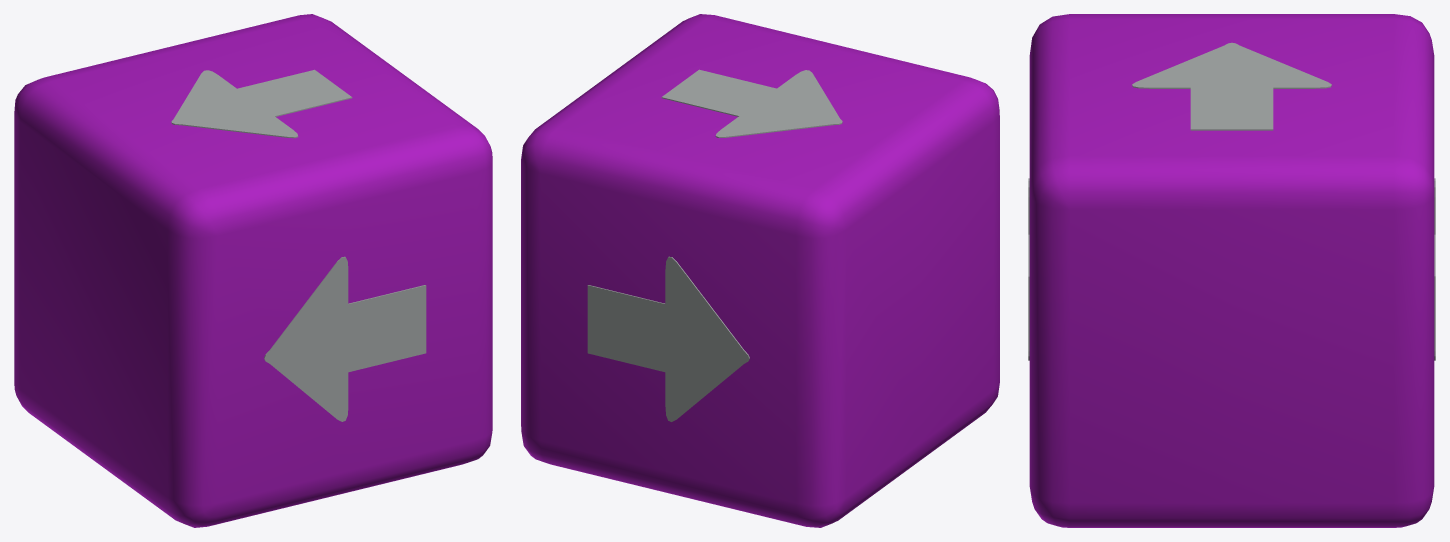
The picture shows the model from 3 angles, left to right: view 1: azimuth 30°, elevation 25°; view 2: azimuth 150°, elevation 25°; view 3: azimuth 270°, elevation 25°; orthographic projection. The views are drawn at different scales.
Parts seen in each view (by area): view 1: FK-06-1, FK-06-2; view 2: FK-06-1, FK-06-2; view 3: FK-06-1, FK-06-2.
Part boxes in pixels (left/top/right/bottom): FK-06-1: left=14, top=14, right=492, bottom=527; FK-06-2: left=171, top=69, right=426, bottom=421; FK-06-1: left=521, top=14, right=999, bottom=527; FK-06-2: left=587, top=69, right=842, bottom=421; FK-06-1: left=1029, top=14, right=1434, bottom=527; FK-06-2: left=1028, top=42, right=1435, bottom=360.
Size of the model in its own units: 9.9 by 9.96 by 9.96.
